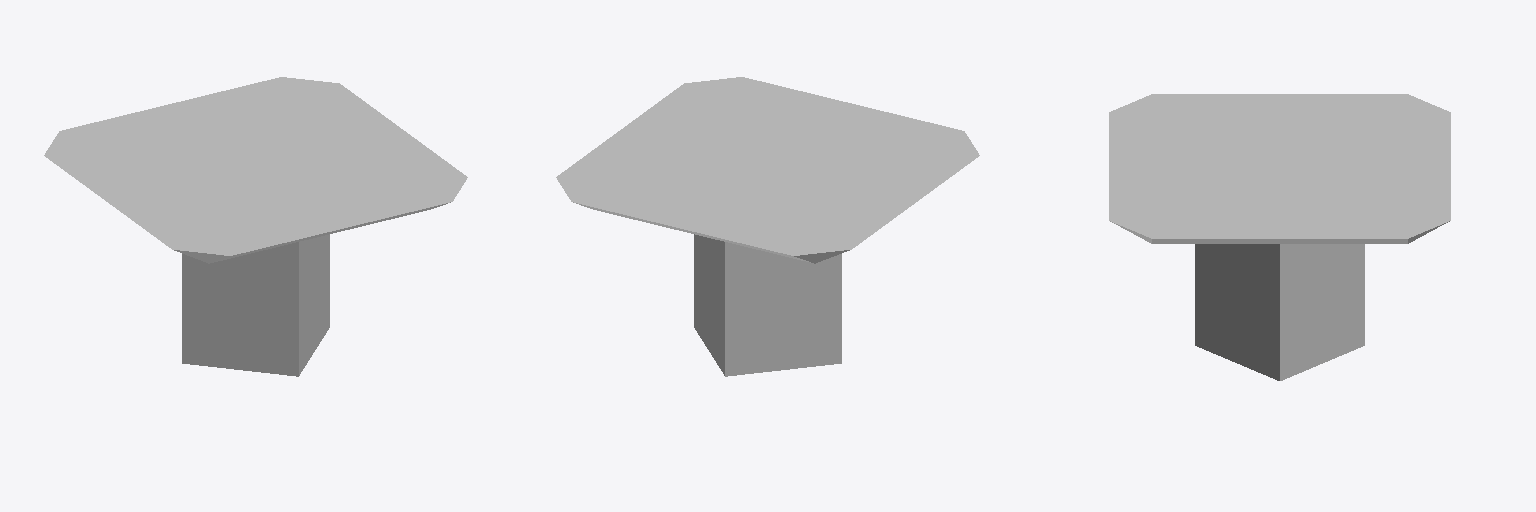
The model's file is kopichair.obj.
3 renders of one model, left to right at view 1: azimuth 30°, elevation 25°; view 2: azimuth 150°, elevation 25°; view 3: azimuth 270°, elevation 25°, orthographic.
Visible parts, largest first — view 1: Cube; view 2: Cube; view 3: Cube.
Boxes of the visible parts, x1,y1,x2,y2 form: Cube: [44, 77, 467, 376]; Cube: [556, 77, 979, 376]; Cube: [1109, 94, 1450, 380].
Size of the model in its own units: 2 by 1.16 by 2.